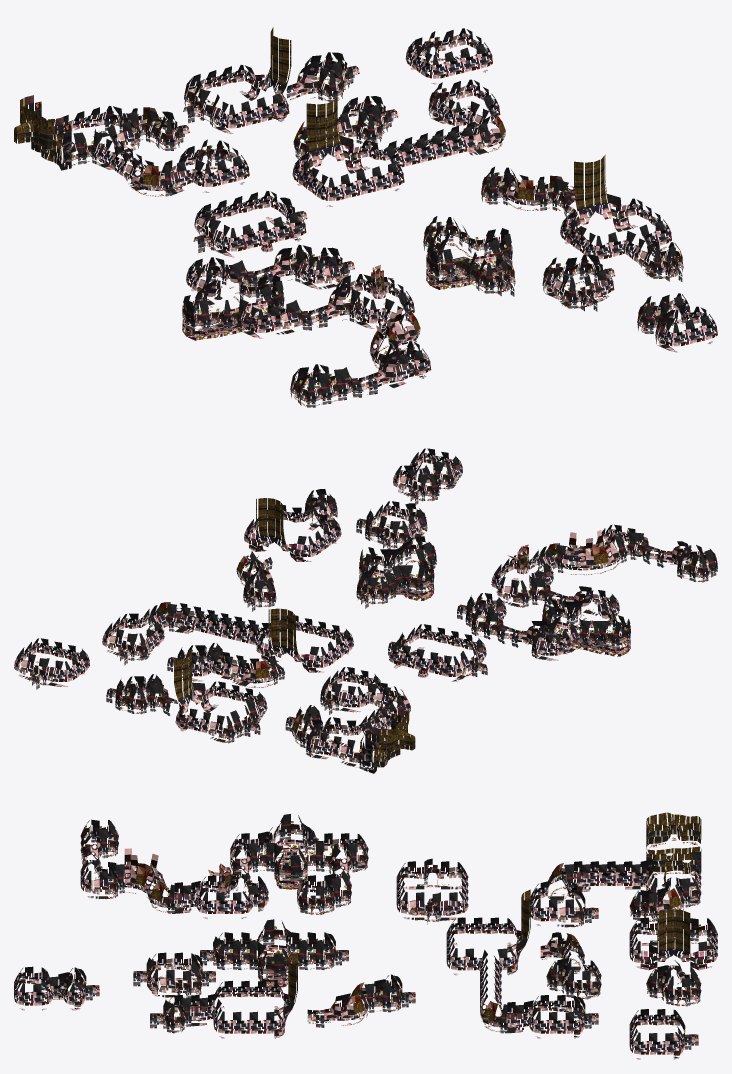
3 renders of one model, top to bottom at view 1: azimuth 30°, elevation 25°; view 2: azimuth 150°, elevation 25°; view 3: azimuth 270°, elevation 25°, orthographic. The views are drawn at different scales.
Parts seen in each view (by area): view 1: T1L6M005_357, T1L6M005_333, T1L6M005_75, T1L6M005_176; view 2: T1L6M005_6; view 3: T1L6M005_50, T1L6M005_463, T1L6M005_322, T1L6M005_333, T1L6M005_204, T1L6M005_37, T1L6M005_63, T1L6M005_444, T1L6M005_343, T1L6M005_357, T1L6M005_64, T1L6M005_38 (+1 smaller).
Boxes of the visible parts, x1,y1,x2,y2 form: T1L6M005_357: (430,249,454,289); T1L6M005_333: (186,299,210,340); T1L6M005_75: (55,117,71,170); T1L6M005_176: (306,103,323,160); T1L6M005_6: (359,727,382,773); T1L6M005_50: (649,812,673,844); T1L6M005_463: (124,854,144,893); T1L6M005_322: (291,849,307,889); T1L6M005_333: (274,814,290,854); T1L6M005_204: (483,1002,507,1033); T1L6M005_37: (673,909,690,961); T1L6M005_63: (657,909,673,961); T1L6M005_444: (150,883,174,913); T1L6M005_343: (274,947,288,987); T1L6M005_357: (258,919,274,959); T1L6M005_64: (657,910,668,957); T1L6M005_38: (679,910,690,957).
Bounding box in the file's own units: 127 × 18.75 × 169.
